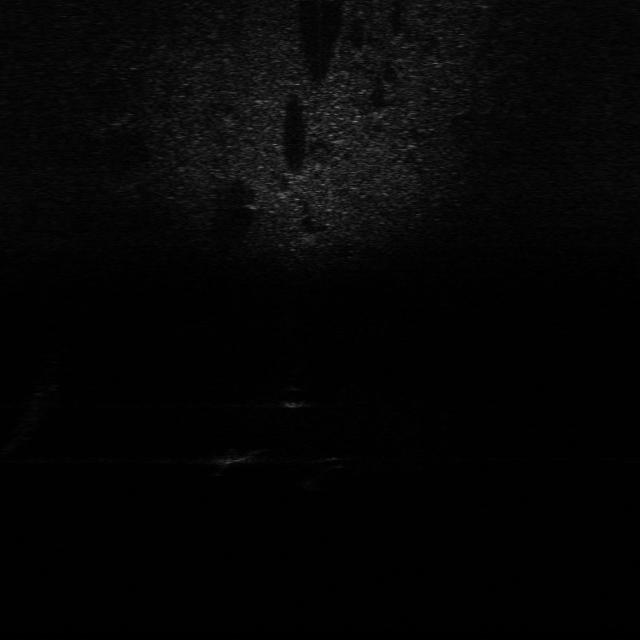ball: (278, 382, 313, 408)
square cage: (208, 442, 268, 472)
tyre: (302, 452, 348, 488)
